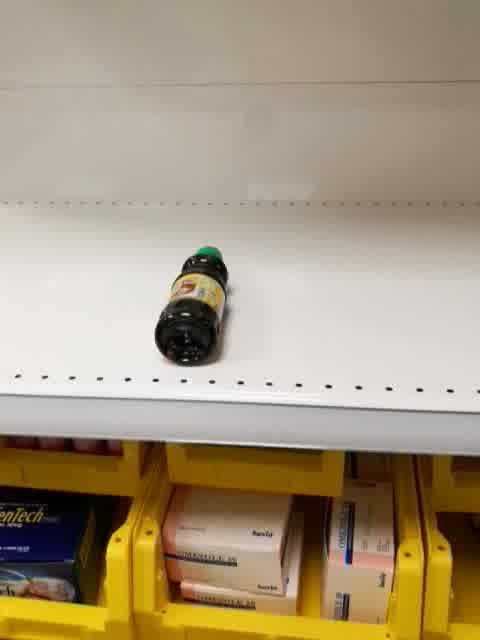cookingoil: (154, 245, 231, 368)
